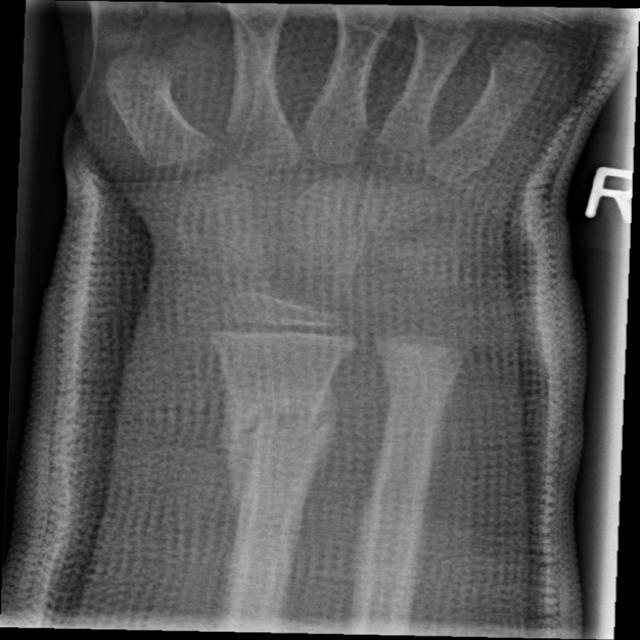radius fracture: (195, 358, 353, 510)
